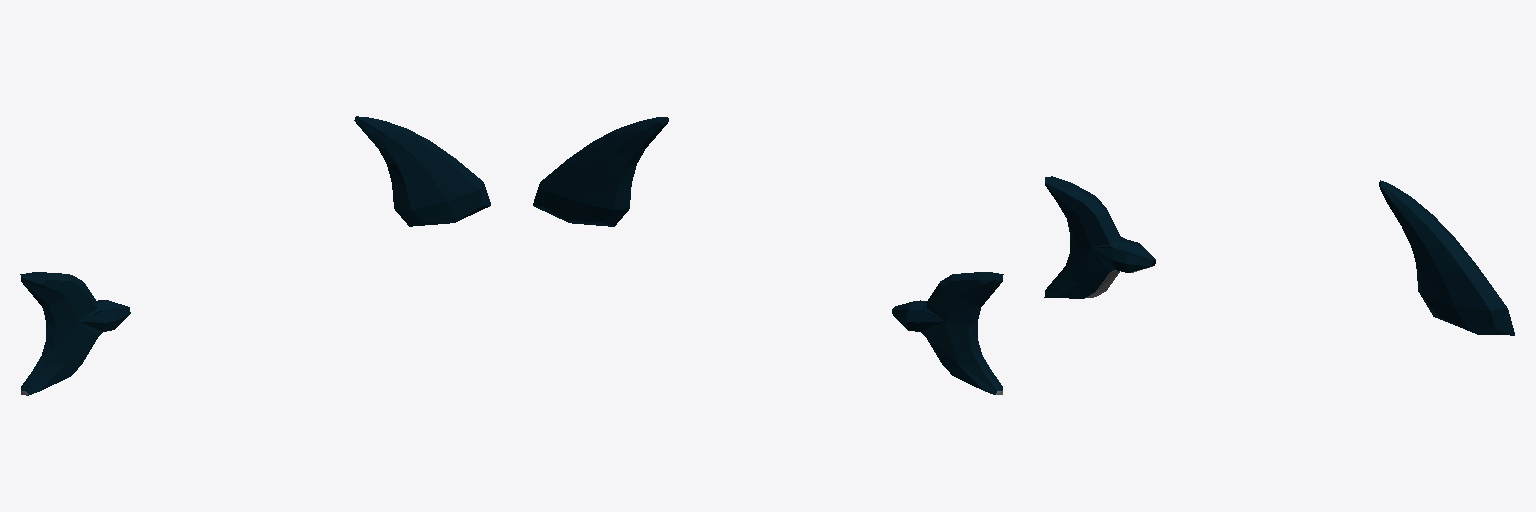
The robot description file, URDF, robot "fish2":
<?xml version="1.0" ?>
<!-- =================================================================================== -->
<!-- |    This document was autogenerated by xacro from Fish2.xacro                    | -->
<!-- |    EDITING THIS FILE BY HAND IS NOT RECOMMENDED                                 | -->
<!-- =================================================================================== -->
<robot name="fish2" xmlns:xacro="http://www.ros.org/wiki/xacro">
  <link name="base_link"> <!--actual body , for simplification renamed -->
    <visual>
      <origin rpy="0 0 0" xyz="0 0 0"/>
      <geometry>
        <mesh filename="package://uwsim_models/uwsim_fish_urdf/Fish_models/Shark1_body_1.dae"/>
      </geometry>
    </visual>
  </link>

  <link name="body"> <!--actual tail , for simplification renamed -->
    <visual>
      <origin rpy="0 0 0" xyz="0 0 0"/>
      <geometry>
        <mesh filename="package://uwsim_models/uwsim_fish_urdf/Fish_models/Shark1_tail.dae"/>
      </geometry>
    </visual>
  </link>

  <joint name="Slew" type="continuous">
    <parent link="base_link"/>
    <child link="body"/>
    <axis xyz="0 0 -1"/>
    <origin rpy="0 0 0" xyz="-6.74 0 0"/>
    <limit effort="1000.0" lower="-0.5488" upper="0.5488" velocity="1.0"/>
  </joint>

  <link name="tail"> <!--actual fin , for simplification renamed -->
    <visual>
      <origin rpy="0 0 0" xyz="0 0 0"/>
      <geometry>
        <mesh filename="package://uwsim_models/uwsim_fish_urdf/Fish_models/Shark1_fin.dae"/>
      </geometry>
    </visual>
  </link>

  <joint name="Shoulder" type="continuous">
    <parent link="base_link"/>
    <child link="tail"/>
    <axis xyz="1 0 0"/>
    <origin rpy="0 0 3.14" xyz="-2 0 0.67659"/>
    <limit effort="1000.0" lower="-0.5488" upper="0.5488" velocity="1.0"/>
  </joint>
</robot>

--- What the picture shows (computed from the rendered views, not written in the file) ---
The picture shows the robot from 3 angles, left to right: view 1: azimuth 30°, elevation 25°; view 2: azimuth 150°, elevation 25°; view 3: azimuth 330°, elevation 25°; orthographic projection.
Model fish2 with 3 links and 2 joints (2 continuous), rooted at base_link, posed all joints at 0.
Links seen in each view (by area): view 1: tail, body; view 2: tail, body; view 3: tail, body.
Boxes of the visible links, x1,y1,x2,y2 form: tail: (354, 116, 490, 226); body: (20, 272, 130, 395); tail: (533, 117, 668, 226); body: (892, 272, 1003, 394); tail: (1379, 180, 1514, 335); body: (1044, 176, 1155, 298).
Bounding box of the posed robot: 6.43 × 0.3939 × 2.57 m (x, y, z).
Meshes: 3 distinct files referenced, 2 mesh visuals loaded (2 Collada DAE); not drawn: 1 (file found but could not be loaded).
